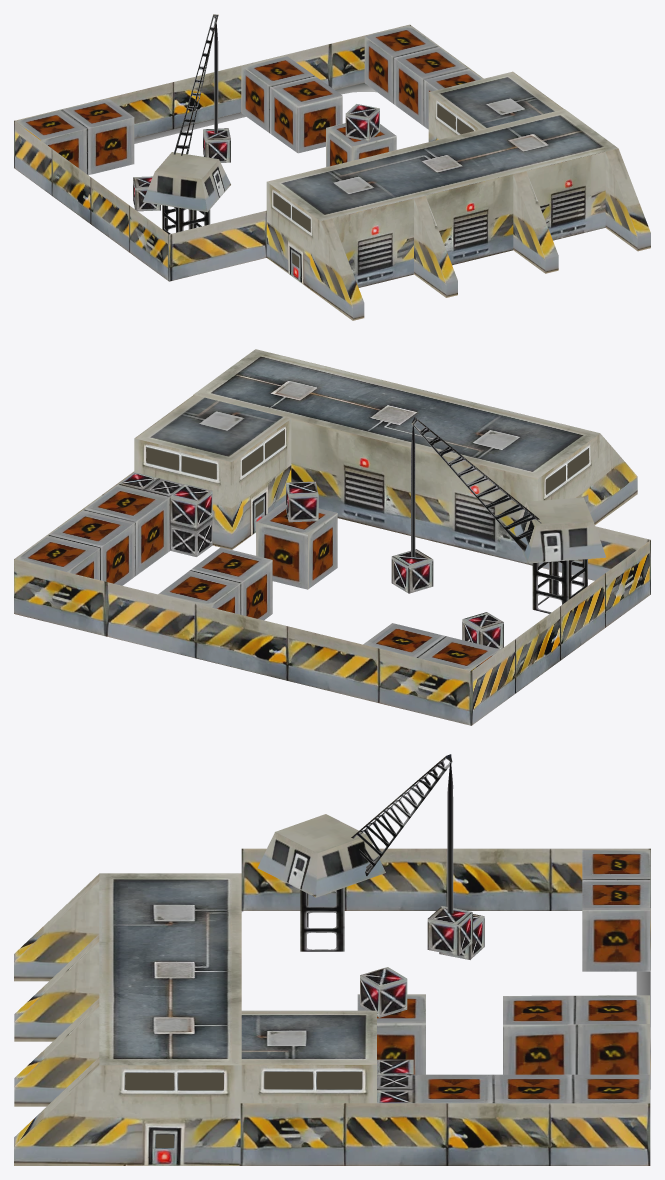
File: weaponsfacility_hdtex.glb
3 views of the same model, one above another, from view 1: azimuth 30°, elevation 25°; view 2: azimuth 150°, elevation 25°; view 3: azimuth 270°, elevation 25° (orthographic). The views are drawn at different scales.
Parts seen in each view (by area): view 1: WeaponsFacility, feet_PAB, LitWin_WeaponsFacility; view 2: WeaponsFacility, feet_PAB, LitWin_WeaponsFacility; view 3: WeaponsFacility, feet_PAB, LitWin_WeaponsFacility.
Part boxes in pixels (box(x1,y1,x2,y2)): WeaponsFacility: box(14, 14, 618, 287); feet_PAB: box(266, 148, 650, 320); LitWin_WeaponsFacility: box(273, 104, 595, 267); WeaponsFacility: box(14, 349, 650, 725); feet_PAB: box(538, 433, 637, 566); LitWin_WeaponsFacility: box(146, 430, 589, 516); WeaponsFacility: box(99, 754, 650, 1165); feet_PAB: box(14, 874, 241, 1165); LitWin_WeaponsFacility: box(125, 1072, 362, 1147).
Size of the model in its own units: 33 by 14.29 by 34.85.
1 material, 1 textured.
